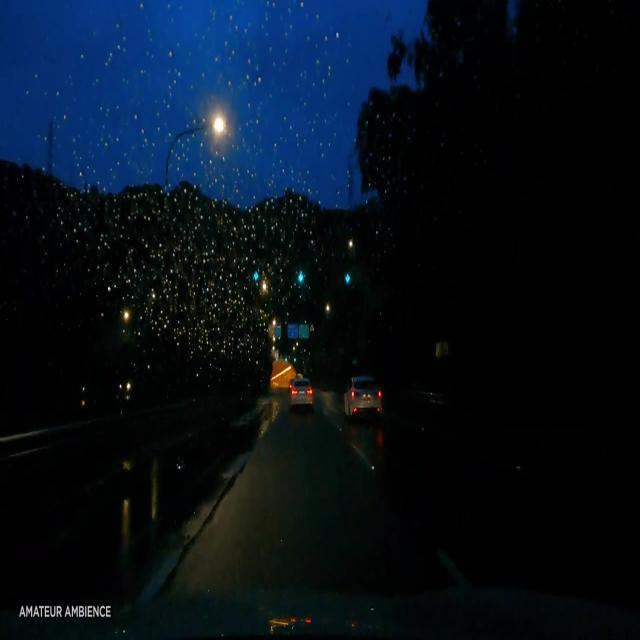Car: (342, 376, 379, 420), (287, 375, 312, 405)
